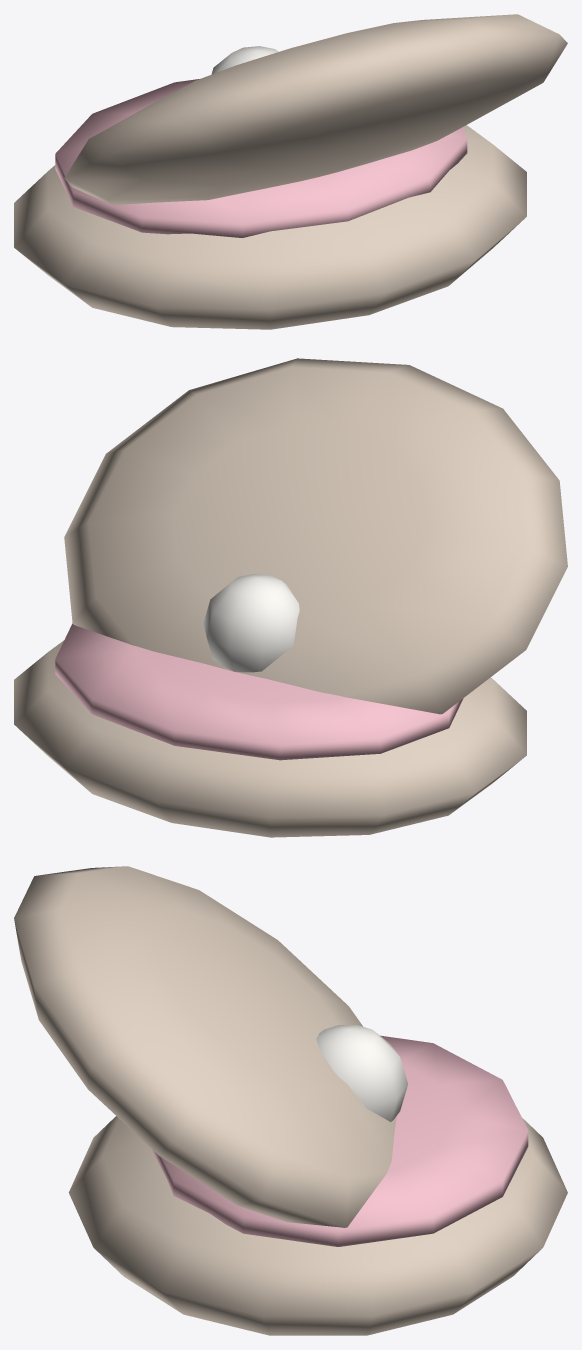
Rendered from clam.glb.
3 renders of one model, top to bottom at view 1: azimuth 30°, elevation 25°; view 2: azimuth 150°, elevation 25°; view 3: azimuth 270°, elevation 25°, orthographic. The views are drawn at different scales.
Parts seen in each view (by area): view 1: Clam; view 2: Clam; view 3: Clam.
Part boxes in pixels (bbox=[...]): Clam: bbox=[14, 14, 567, 329]; Clam: bbox=[14, 358, 567, 837]; Clam: bbox=[14, 866, 567, 1335].
Bounding box in the file's own units: 0.585 × 0.3929 × 0.5548.
